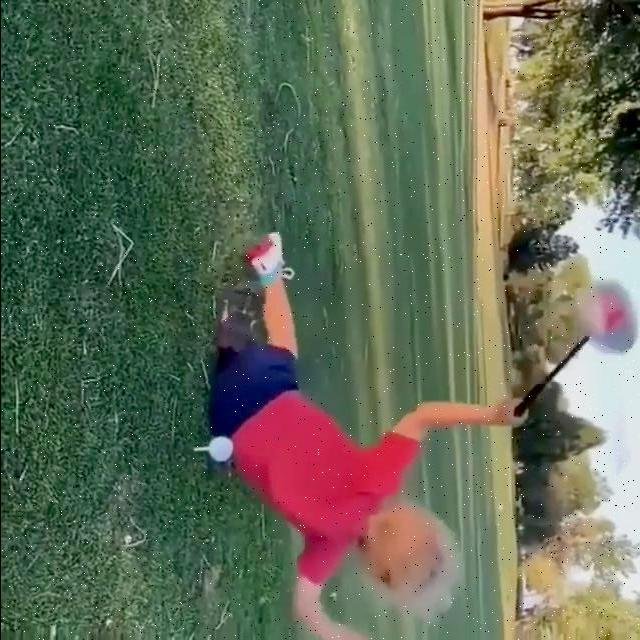golf ball: (205, 432, 232, 466)
golf club-handle: (514, 285, 636, 421)
golf club-head: (570, 284, 632, 354)
